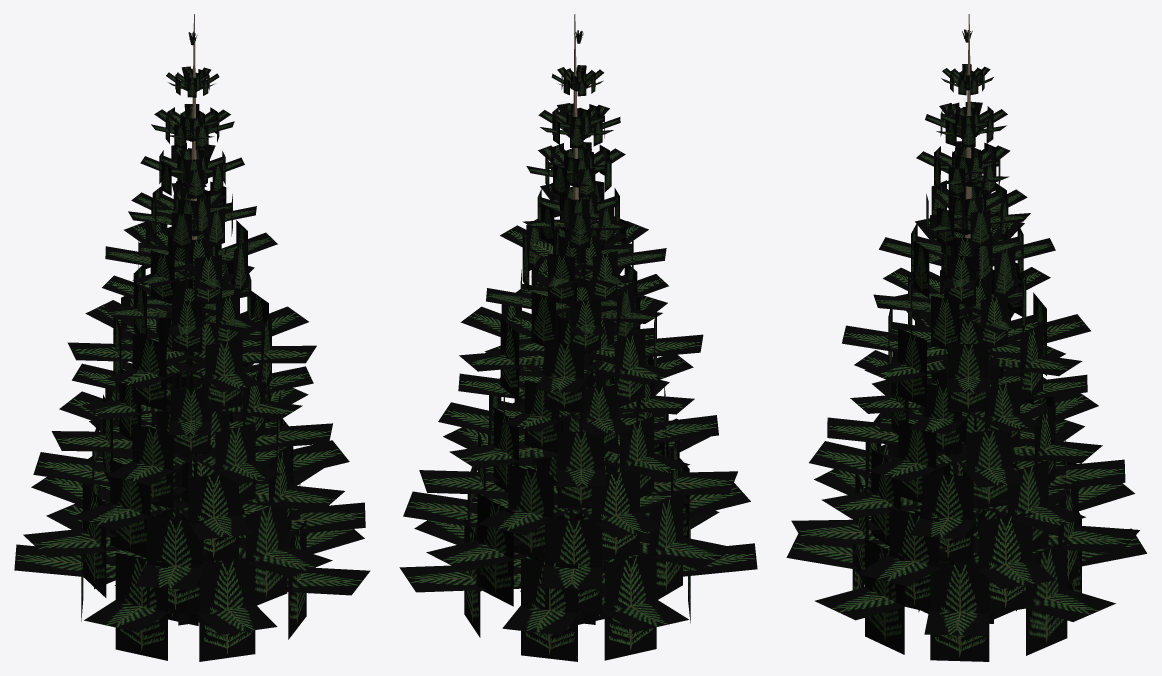
Rendered from Larch_0_LOD1.glb.
3 renders of one model, left to right at view 1: azimuth 30°, elevation 25°; view 2: azimuth 150°, elevation 25°; view 3: azimuth 270°, elevation 25°, orthographic.
Visible parts, largest first — view 1: Larch_0_LOD1; view 2: Larch_0_LOD1; view 3: Larch_0_LOD1.
Boxes of the visible parts, box(x1,y1,x2,y2) form: Larch_0_LOD1: box(14, 14, 370, 661); Larch_0_LOD1: box(399, 14, 757, 661); Larch_0_LOD1: box(786, 14, 1146, 661).
Size of the model in its own units: 10.81 by 20.17 by 10.97.
Materials: 2 (1 with a texture image).
